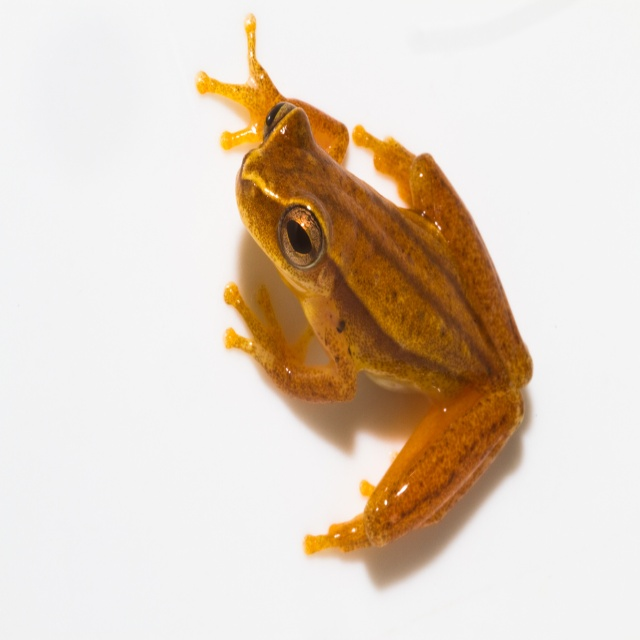Frog: (193, 12, 533, 556)
